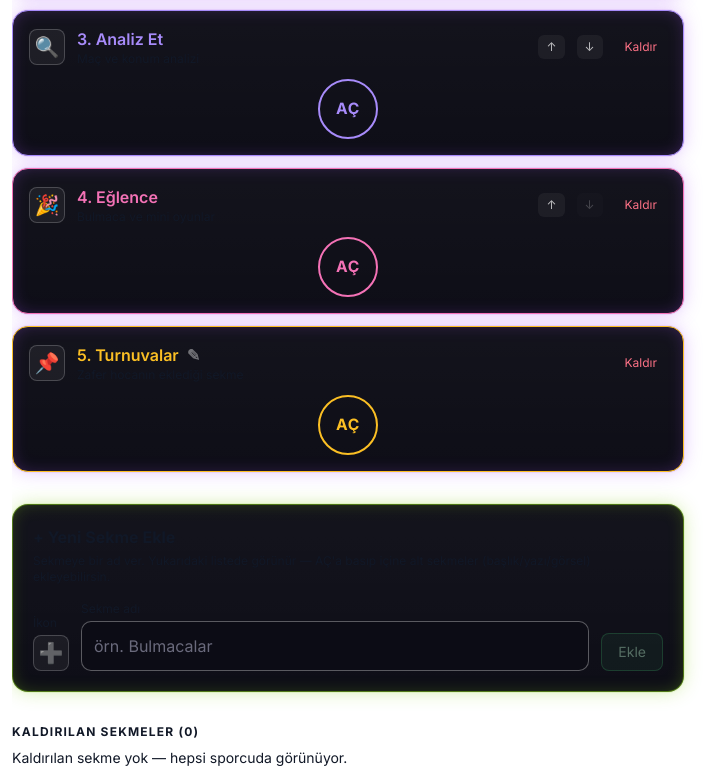
Test: Admin özel sekme — alt sekme düzenleme › Düzenle basınca başlık/yazı düzenlenebilir kutucuklara döner
(page scrolled)
Expected: the text "Turnuvalar" is shown, [95,343,179,367]
Step 1. Click the button with aria-label "Turnuvalar sekmesini aç" → x=348, y=425, box [318,395,378,455]
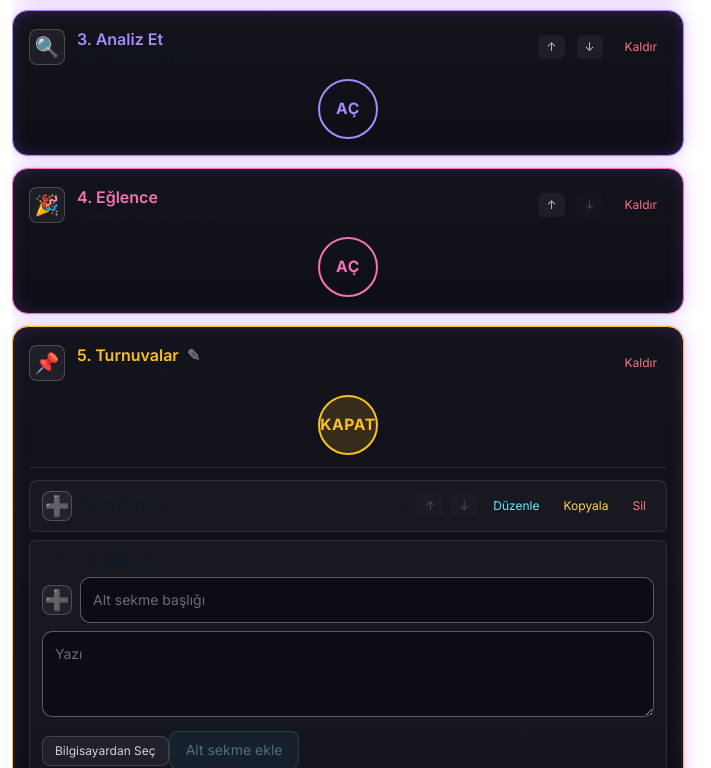
Step 2. Click the button with aria-label "Kayıt Şartları alt sekmesini düzenle" → x=516, y=506, box [485,494,548,518]
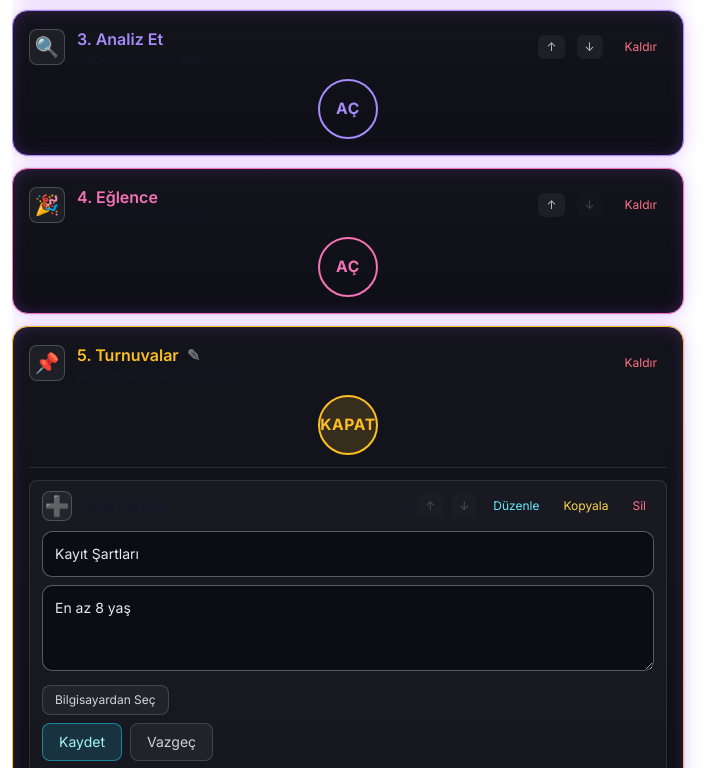
Expected: the field showing "Kayıt Şartları" is shown, [42,531,654,577]
Expected: the text box showing "En az 8 yaş" is shown, [42,585,654,671]
